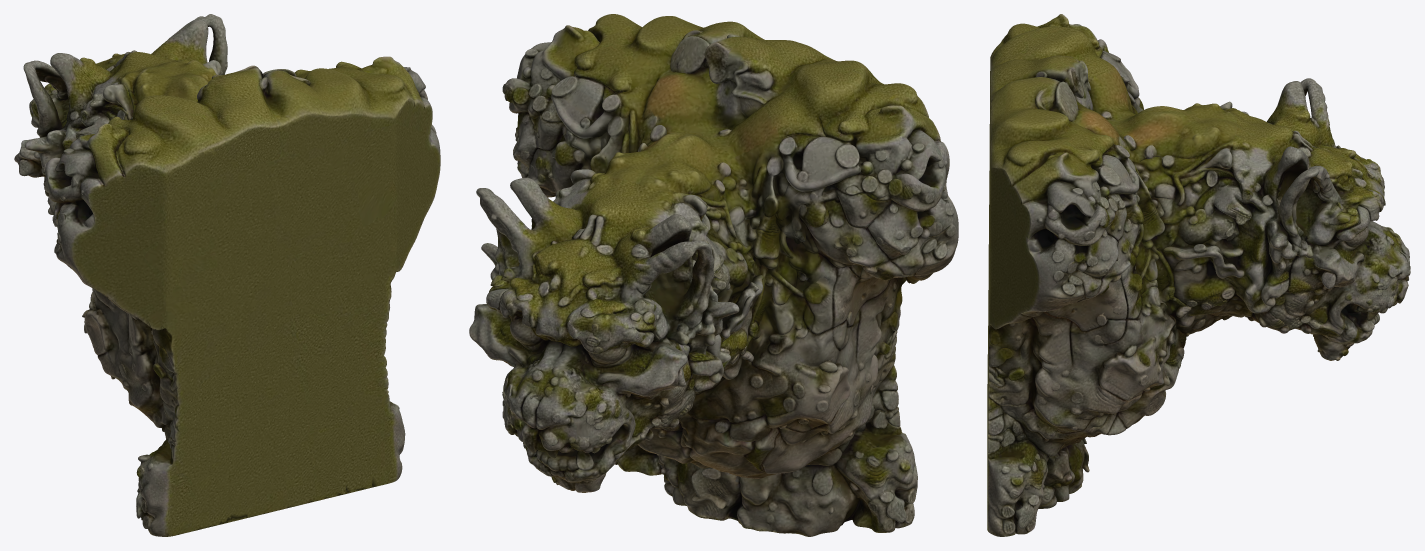
File: gargoyle-statue.glb
3 renders of one model, left to right at view 1: azimuth 30°, elevation 25°; view 2: azimuth 150°, elevation 25°; view 3: azimuth 270°, elevation 25°, orthographic. The views are drawn at different scales.
Parts seen in each view (by area): view 1: tripo_node_1b29d1b9-3b0a-41dc-b329-40d5306a0ce2; view 2: tripo_node_1b29d1b9-3b0a-41dc-b329-40d5306a0ce2; view 3: tripo_node_1b29d1b9-3b0a-41dc-b329-40d5306a0ce2.
Part boxes in pixels (x1,y1,x2,y2): tripo_node_1b29d1b9-3b0a-41dc-b329-40d5306a0ce2: (14, 14, 440, 536); tripo_node_1b29d1b9-3b0a-41dc-b329-40d5306a0ce2: (469, 14, 958, 536); tripo_node_1b29d1b9-3b0a-41dc-b329-40d5306a0ce2: (987, 14, 1410, 536).
Bounding box in the file's own units: 0.9428 × 0.9821 × 0.9112.
Materials: 1 (1 with a texture image).
